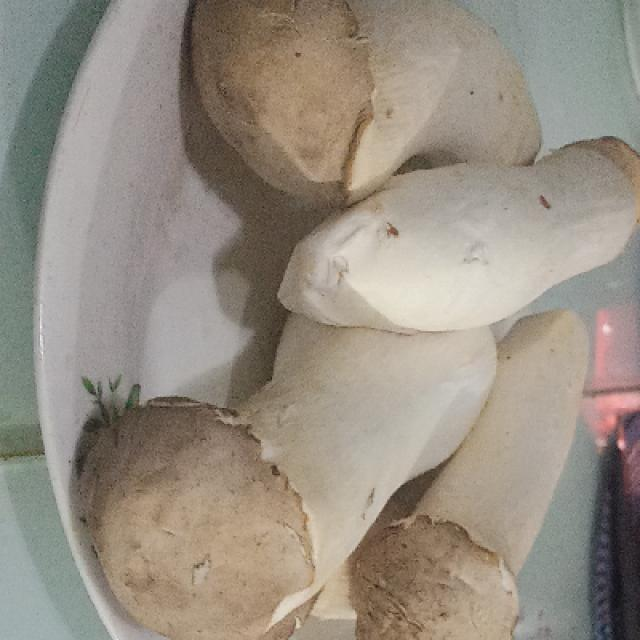Pleurotus eryngii: (81, 0, 640, 640)
